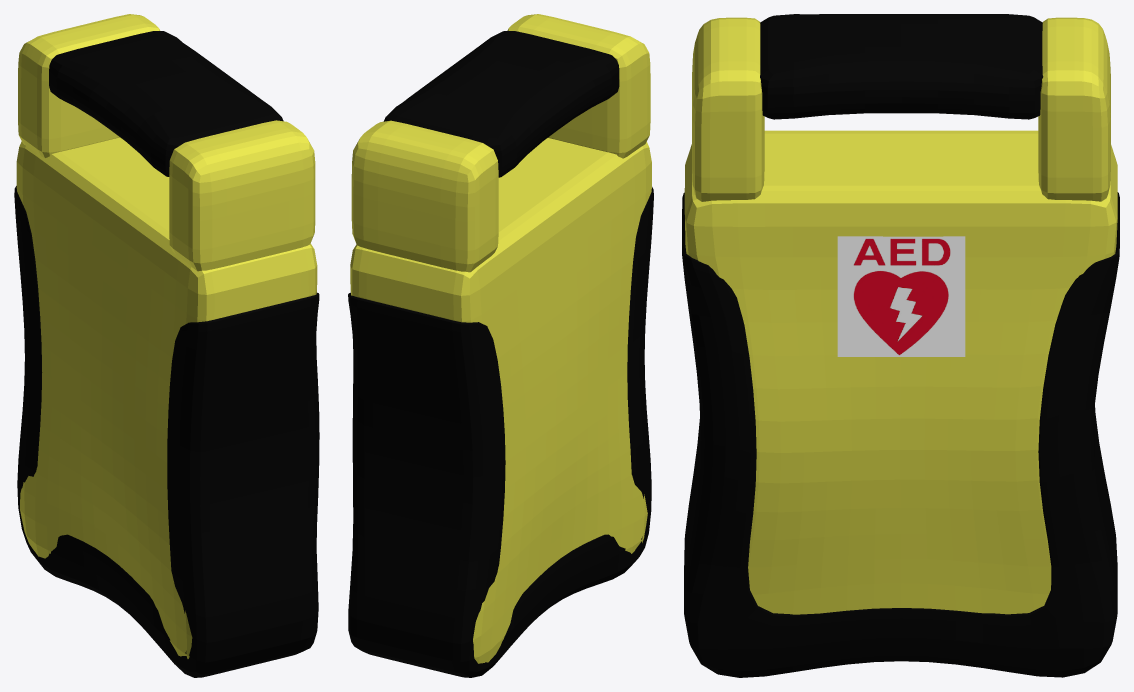
The model's file is AED.fbx.
The picture shows the model from 3 angles, left to right: view 1: azimuth 30°, elevation 25°; view 2: azimuth 150°, elevation 25°; view 3: azimuth 270°, elevation 25°; orthographic projection. The views are drawn at different scales.
Parts seen in each view (by area): view 1: AED, Contour Rubber, Left Stick, Poignee, Right Stick; view 2: AED, Contour Rubber, Right Stick, Poignee, Left Stick; view 3: AED, Contour Rubber, Poignee, AED-logo, Left Stick, Right Stick.
Part boxes in pixels (x1=…): AED: x1=16, y1=137, x2=317, y2=658; Contour Rubber: x1=14, y1=186, x2=319, y2=677; Left Stick: x1=169, y1=120, x2=315, y2=271; Poignee: x1=49, y1=31, x2=283, y2=176; Right Stick: x1=18, y1=14, x2=160, y2=157; AED: x1=350, y1=138, x2=651, y2=663; Contour Rubber: x1=348, y1=187, x2=653, y2=677; Right Stick: x1=351, y1=120, x2=498, y2=272; Poignee: x1=383, y1=31, x2=619, y2=177; Left Stick: x1=507, y1=14, x2=650, y2=158; AED: x1=684, y1=130, x2=1117, y2=614; Contour Rubber: x1=682, y1=192, x2=1119, y2=677; Poignee: x1=760, y1=14, x2=1043, y2=119; AED-logo: x1=837, y1=236, x2=965, y2=356; Left Stick: x1=692, y1=17, x2=764, y2=201; Right Stick: x1=1038, y1=17, x2=1110, y2=201.
Size of the model in its own units: 106 by 371 by 240.
Materials: 3 (1 with a texture image).
